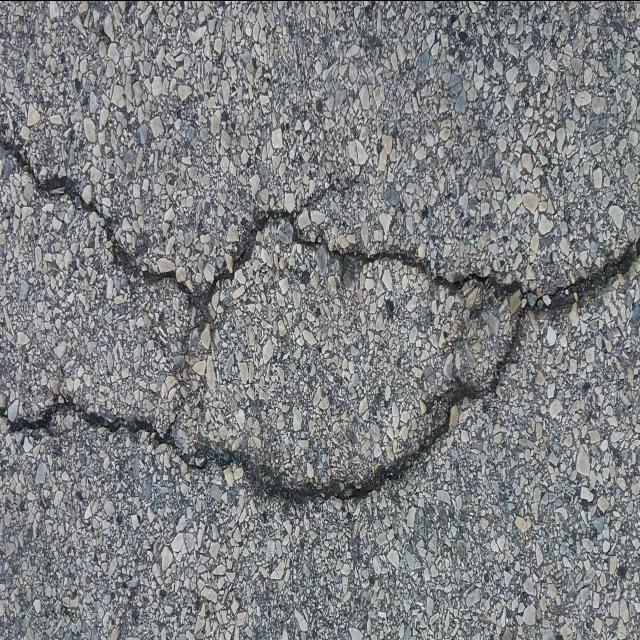Crack: (0, 135, 640, 506)
